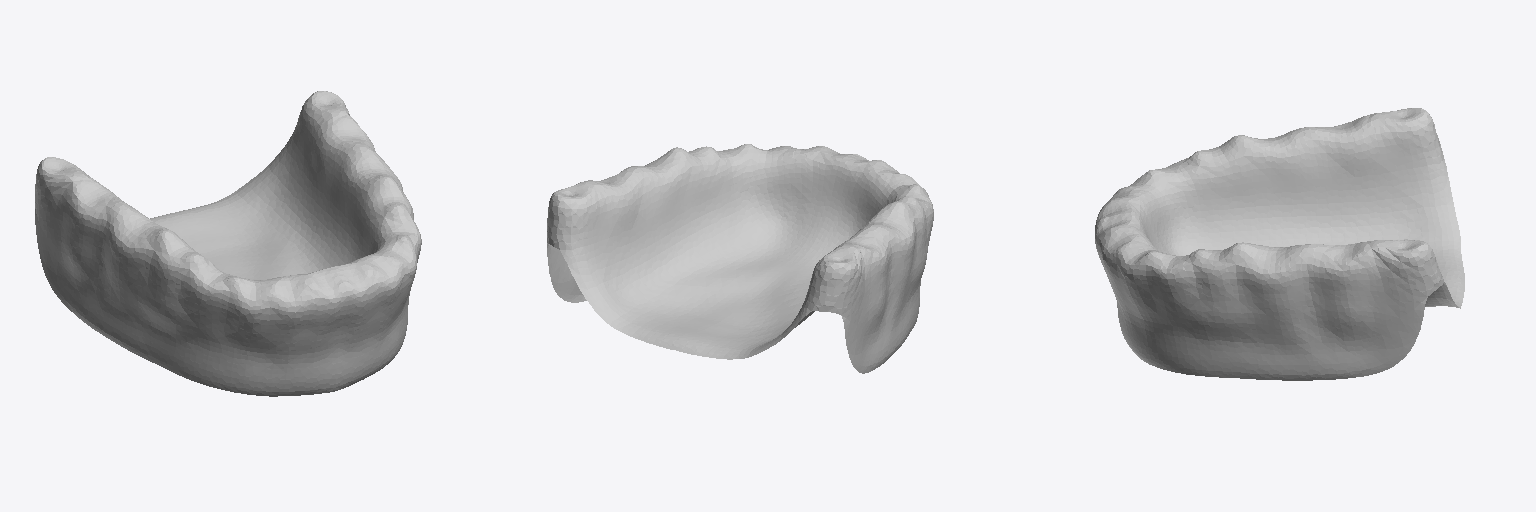
Rendered from topgum.obj.
3 renders of one model, left to right at view 1: azimuth 30°, elevation 25°; view 2: azimuth 150°, elevation 25°; view 3: azimuth 270°, elevation 25°, orthographic.
Visible parts, largest first — view 1: Group61790; view 2: Group61790; view 3: Group61790.
Boxes of the visible parts, x1,y1,x2,y2 form: Group61790: [35, 91, 421, 396]; Group61790: [547, 144, 933, 373]; Group61790: [1095, 108, 1464, 380].
Size of the model in its own units: 0.4598 by 0.2292 by 0.4859.